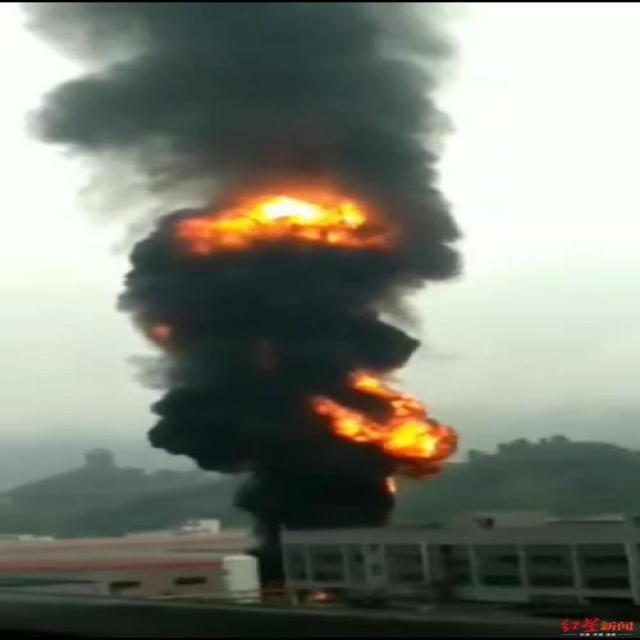Fire: (168, 180, 378, 254), (306, 367, 464, 459)
Smoke: (24, 1, 464, 180), (131, 258, 461, 366), (142, 368, 314, 526), (80, 183, 172, 258), (318, 459, 412, 524), (392, 188, 476, 258)
